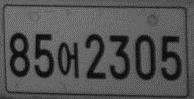0: (134, 32, 157, 81)
2: (84, 33, 106, 80)
3: (108, 34, 131, 80)
5: (160, 34, 183, 82), (34, 32, 55, 78)
8: (8, 31, 31, 77)
어: (56, 40, 80, 78)
